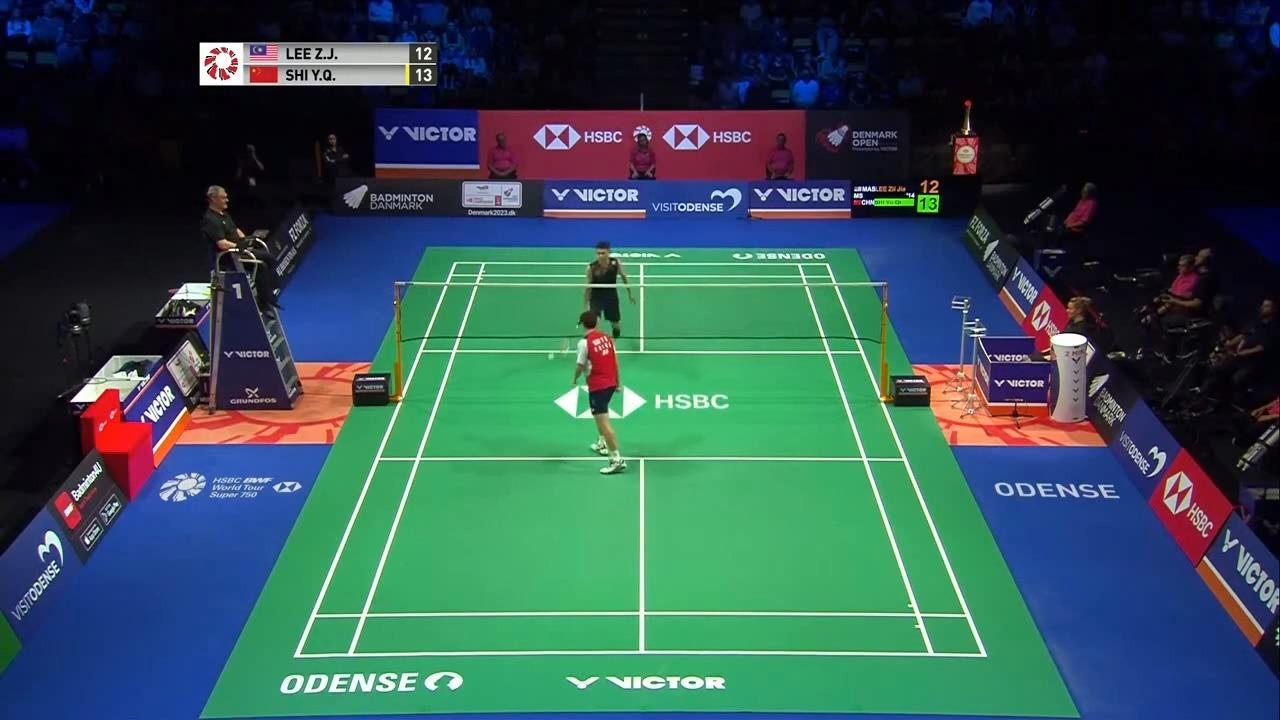shuttle: (545, 351, 556, 362)
